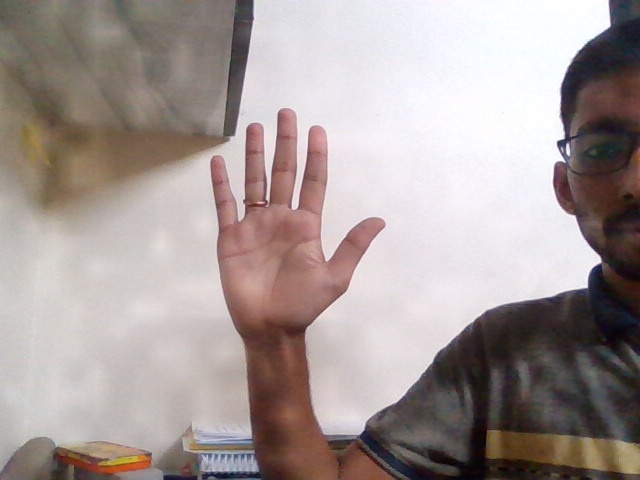Hello: (187, 94, 401, 367)
